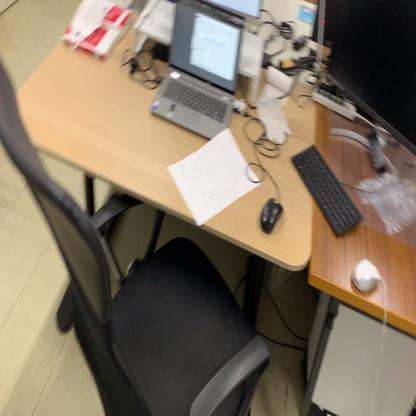chair: (0, 53, 270, 416)
